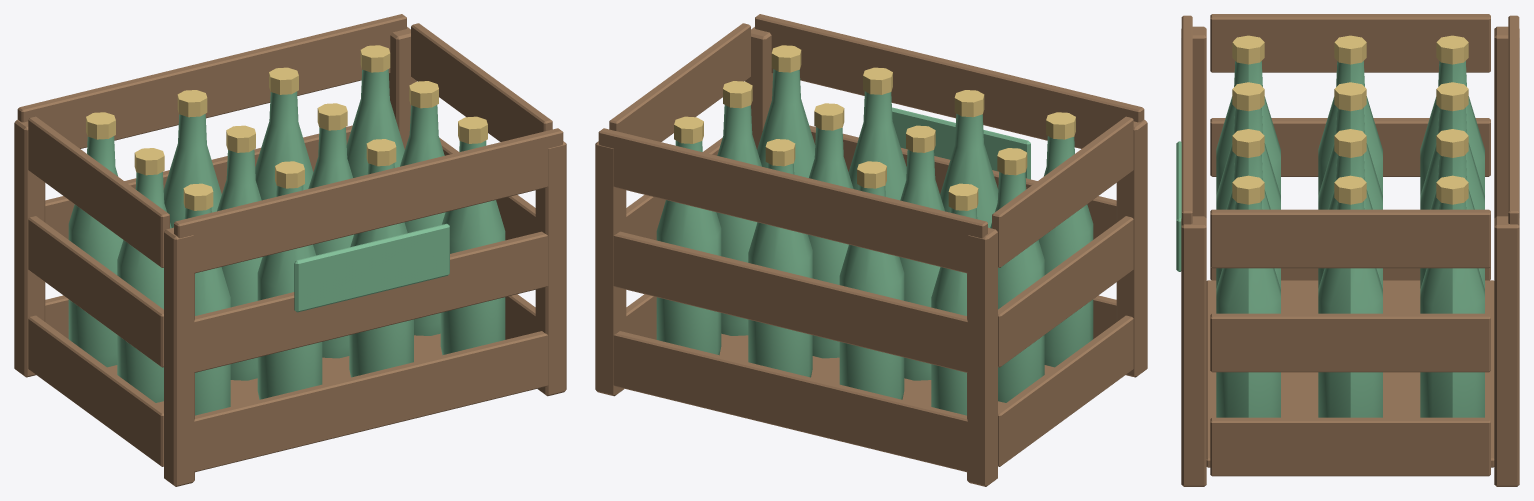
3 views of the same model, side by side, from view 1: azimuth 30°, elevation 25°; view 2: azimuth 150°, elevation 25°; view 3: azimuth 270°, elevation 25° (orthographic). The views are drawn at different scales.
Visible parts, largest first — view 1: bottle-crate; view 2: bottle-crate; view 3: bottle-crate.
Boxes of the visible parts, <box> form: bottle-crate: <box>14,14,566,486</box>; bottle-crate: <box>595,14,1147,486</box>; bottle-crate: <box>1176,14,1519,486</box>.
Size of the model in its own units: 0.558 by 0.3561 by 0.404.
